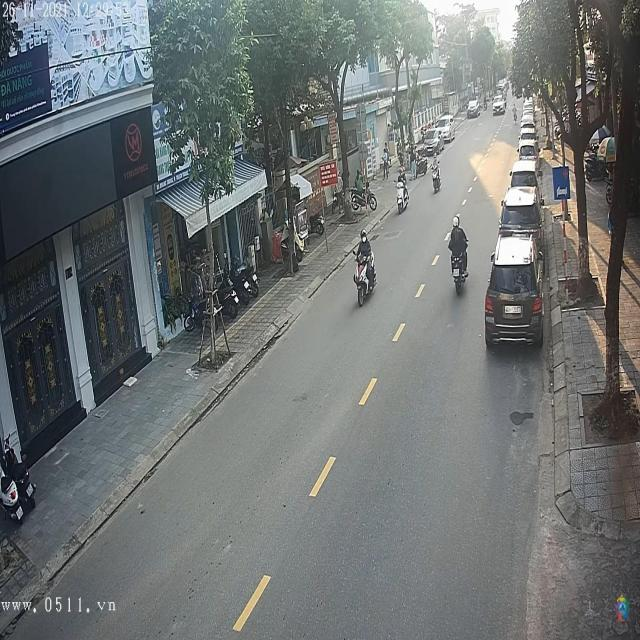car: (485, 233, 544, 348), (499, 190, 543, 237), (507, 160, 538, 198), (468, 98, 482, 118), (493, 96, 508, 114)
motorcycle: (355, 252, 379, 309), (395, 173, 410, 214), (451, 252, 468, 288), (430, 165, 442, 193)
